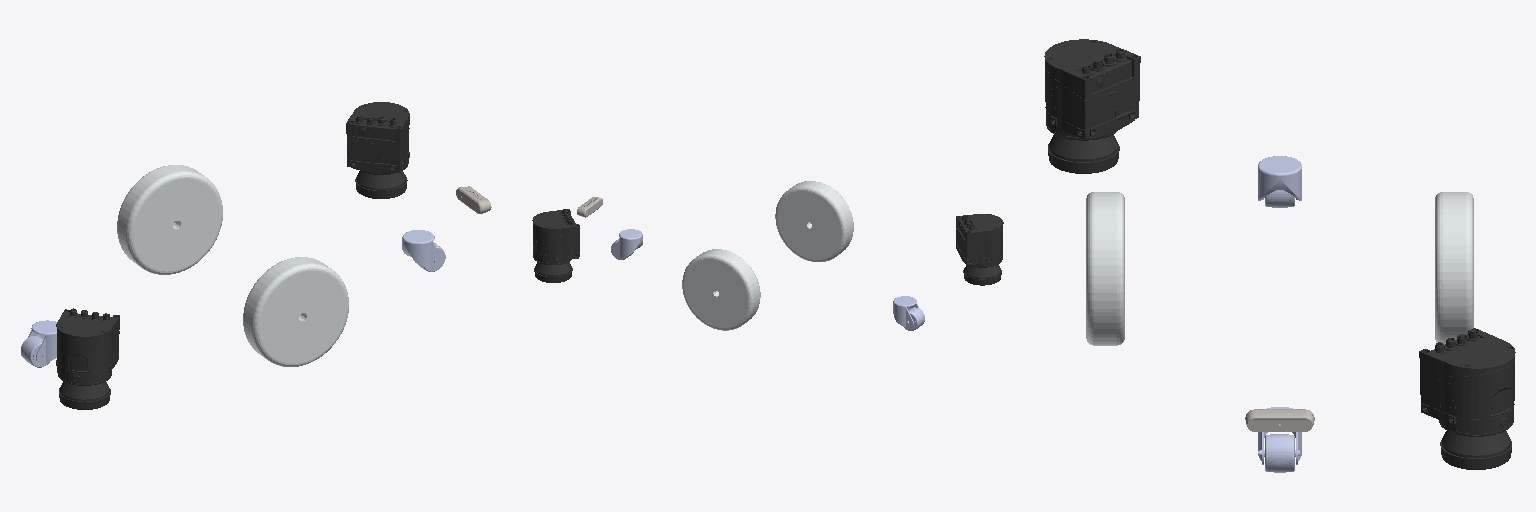
The robot description file, URDF, robot "si_amr":
<?xml version="1.0" encoding="utf-8"?>
<!-- This URDF was automatically created by SolidWorks to URDF Exporter! Originally created by [author] ([email redacted]) 
     Commit Version: 1.6.0-1-g15f4949  Build Version: 1.6.7594.29634
     For more information, please see http://wiki.ros.org/sw_urdf_exporter -->
<robot
  name="si_amr">
  <link
    name="base_link">
    <inertial>
      <origin
        xyz="-0.0111687679342633 7.60706926982341E-06 -0.0775923849011201"
        rpy="0 0 0" />
      <mass
        value="44.8359750988227" />
      <inertia
        ixx="0.86786450117829"
        ixy="-1.30900344543922E-05"
        ixz="0.00428359302486942"
        iyy="2.10439013034758"
        iyz="5.61997396601663E-08"
        izz="2.88226358947726" />
    </inertial>
    <visual>
      <origin
        xyz="0 0 0"
        rpy="0 0 0" />
      <geometry>
        <mesh
          filename="package://si_amr/meshes/base_link.STL" />
      </geometry>
      <material
        name="">
        <color
          rgba="0.792156862745098 0.819607843137255 0.933333333333333 1" />
      </material>
    </visual>
    <collision>
      <origin
        xyz="0 0 0"
        rpy="0 0 0" />
      <geometry>
        <mesh
          filename="package://si_amr/meshes/base_link.STL" />
      </geometry>
    </collision>
  </link>
  <link
    name="wheel_left_link">
    <inertial>
      <origin
        xyz="0 0 0"
        rpy="0 0 0" />
      <mass
        value="4.13932148724235" />
      <inertia
        ixx="0.0111018499195447"
        ixy="-1.14794264253731E-18"
        ixz="1.39715517819818E-19"
        iyy="0.0111018499195447"
        iyz="-1.25817765026692E-19"
        izz="0.0205234809346338" />
    </inertial>
    <visual>
      <origin
        xyz="0 0 0"
        rpy="0 0 0" />
      <geometry>
        <mesh
          filename="package://si_amr/meshes/wheel_left_link.STL" />
      </geometry>
      <material
        name="">
        <color
          rgba="0.898039215686275 0.917647058823529 0.929411764705882 1" />
      </material>
    </visual>
    <collision>
      <origin
        xyz="0 0 0"
        rpy="0 0 0" />
      <geometry>
        <mesh
          filename="package://si_amr/meshes/wheel_left_link.STL" />
      </geometry>
    </collision>
  </link>
  <joint
    name="wheel_left_joint"
    type="continuous">
    <origin
      xyz="0 0.226499999999998 -0.147000000000001"
      rpy="-1.5707963267949 0 0" />
    <parent
      link="base_link" />
    <child
      link="wheel_left_link" />
    <axis
      xyz="0 0 1" />
    <limit
      effort="20"
      velocity="15" />
  </joint>
  <link
    name="wheel_right_link">
    <inertial>
      <origin
        xyz="0 1.38777878078145E-17 2.77555756156289E-17"
        rpy="0 0 0" />
      <mass
        value="4.13932148724235" />
      <inertia
        ixx="0.0111018499195447"
        ixy="8.4551469844733E-39"
        ixz="6.29031827652372E-35"
        iyy="0.0111018499195447"
        iyz="1.50702389241546E-35"
        izz="0.0205234809346339" />
    </inertial>
    <visual>
      <origin
        xyz="0 0 0"
        rpy="0 0 0" />
      <geometry>
        <mesh
          filename="package://si_amr/meshes/wheel_right_link.STL" />
      </geometry>
      <material
        name="">
        <color
          rgba="0.898039215686275 0.917647058823529 0.929411764705882 1" />
      </material>
    </visual>
    <collision>
      <origin
        xyz="0 0 0"
        rpy="0 0 0" />
      <geometry>
        <mesh
          filename="package://si_amr/meshes/wheel_right_link.STL" />
      </geometry>
    </collision>
  </link>
  <joint
    name="wheel_right_joint"
    type="continuous">
    <origin
      xyz="0 -0.226500000000003 -0.146999999999999"
      rpy="1.5707963267949 0 0" />
    <parent
      link="base_link" />
    <child
      link="wheel_right_link" />
    <axis
      xyz="0 0 -1" />
    <limit
      effort="20"
      velocity="15" />
  </joint>
  <link
    name="caster_front_link">
    <inertial>
      <origin
        xyz="0.00133574187463248 -5.71868151332457E-05 -0.0201334264021582"
        rpy="0 0 0" />
      <mass
        value="0.0273136144310984" />
      <inertia
        ixx="2.00084306350161E-05"
        ixy="3.26587017739956E-08"
        ixz="2.99150724390533E-06"
        iyy="1.56757776722852E-05"
        iyz="-3.85589452921517E-08"
        izz="1.94189801360994E-05" />
    </inertial>
    <visual>
      <origin
        xyz="0 0 0"
        rpy="0 0 0" />
      <geometry>
        <mesh
          filename="package://si_amr/meshes/caster_front_link.STL" />
      </geometry>
      <material
        name="">
        <color
          rgba="0.792156862745098 0.819607843137255 0.933333333333333 1" />
      </material>
    </visual>
    <collision>
      <origin
        xyz="0 0 0"
        rpy="0 0 0" />
      <geometry>
        <mesh
          filename="package://si_amr/meshes/caster_front_link.STL" />
      </geometry>
    </collision>
  </link>
  <joint
    name="caster_front_joint"
    type="continuous">
    <origin
      xyz="0.385000133263433 0 -0.177599999999994"
      rpy="0 0 -0.00278958211828869" />
    <parent
      link="base_link" />
    <child
      link="caster_front_link" />
    <axis
      xyz="0 0 1" />
  </joint>
  <link
    name="caster_wheel_front_link">
    <inertial>
      <origin
        xyz="4.85537277605808E-08 2.54449933345668E-12 5.58759442833082E-06"
        rpy="0 0 0" />
      <mass
        value="0.0736834010560839" />
      <inertia
        ixx="2.00646646172897E-05"
        ixy="-1.29307398981512E-14"
        ixz="-1.08025208363595E-14"
        iyy="2.00652243842728E-05"
        iyz="-3.35844640579813E-11"
        izz="2.22295932374571E-05" />
    </inertial>
    <visual>
      <origin
        xyz="0 0 0"
        rpy="0 0 0" />
      <geometry>
        <mesh
          filename="package://si_amr/meshes/caster_wheel_front_link.STL" />
      </geometry>
      <material
        name="">
        <color
          rgba="0.792156862745098 0.819607843137255 0.933333333333333 1" />
      </material>
    </visual>
    <collision>
      <origin
        xyz="0 0 0"
        rpy="0 0 0" />
      <geometry>
        <mesh
          filename="package://si_amr/meshes/caster_wheel_front_link.STL" />
      </geometry>
    </collision>
  </link>
  <joint
    name="caster_wheel_front_joint"
    type="continuous">
    <origin
      xyz="0.0219998659429772 0 -0.0444"
      rpy="1.5707963267949 0 0" />
    <parent
      link="caster_front_link" />
    <child
      link="caster_wheel_front_link" />
    <axis
      xyz="0 0 -1" />
  </joint>
  <link
    name="caster_rear_link">
    <inertial>
      <origin
        xyz="0.00133587852979922 -5.74648971324989E-05 -0.0297334226003987"
        rpy="0 0 0" />
      <mass
        value="0.0273136131661917" />
      <inertia
        ixx="2.0008429931033E-05"
        ixy="3.26588855034143E-08"
        ixz="2.99150809122053E-06"
        iyy="1.56757781442716E-05"
        iyz="-3.85600353091963E-08"
        izz="1.94189798763561E-05" />
    </inertial>
    <visual>
      <origin
        xyz="0 0 0"
        rpy="0 0 0" />
      <geometry>
        <mesh
          filename="package://si_amr/meshes/caster_rear_link.STL" />
      </geometry>
      <material
        name="">
        <color
          rgba="0.792156862745098 0.819607843137255 0.933333333333333 1" />
      </material>
    </visual>
    <collision>
      <origin
        xyz="0 0 0"
        rpy="0 0 0" />
      <geometry>
        <mesh
          filename="package://si_amr/meshes/caster_rear_link.STL" />
      </geometry>
    </collision>
  </link>
  <joint
    name="caster_rear_joint"
    type="continuous">
    <origin
      xyz="-0.384999999999984 0 -0.168000000000006"
      rpy="0 0 -3.13959950785527" />
    <parent
      link="base_link" />
    <child
      link="caster_rear_link" />
    <axis
      xyz="0 0 1" />
  </joint>
  <link
    name="caster_wheel_rear_link">
    <inertial>
      <origin
        xyz="-4.85206940181726E-08 -5.24650808908511E-12 -5.58763183033305E-06"
        rpy="0 0 0" />
      <mass
        value="0.073683401056083" />
      <inertia
        ixx="2.00646646932646E-05"
        ixy="-1.10696244974163E-14"
        ixz="5.81129557001231E-15"
        iyy="2.00652244039019E-05"
        iyz="3.35844642074516E-11"
        izz="2.22295933330647E-05" />
    </inertial>
    <visual>
      <origin
        xyz="0 0 0"
        rpy="0 0 0" />
      <geometry>
        <mesh
          filename="package://si_amr/meshes/caster_wheel_rear_link.STL" />
      </geometry>
      <material
        name="">
        <color
          rgba="0.792156862745098 0.819607843137255 0.933333333333333 1" />
      </material>
    </visual>
    <collision>
      <origin
        xyz="0 0 0"
        rpy="0 0 0" />
      <geometry>
        <mesh
          filename="package://si_amr/meshes/caster_wheel_rear_link.STL" />
      </geometry>
    </collision>
  </link>
  <joint
    name="caster_wheel_rear_joint"
    type="continuous">
    <origin
      xyz="0.0220000000000001 0 -0.054"
      rpy="1.5707963267949 0 0" />
    <parent
      link="caster_rear_link" />
    <child
      link="caster_wheel_rear_link" />
    <axis
      xyz="0 0 -1" />
  </joint>
  <link
    name="lidar_front_link">
    <inertial>
      <origin
        xyz="-0.00413330470567919 -3.38572365146672E-06 -0.049539503720096"
        rpy="0 0 0" />
      <mass
        value="1.18107799883357" />
      <inertia
        ixx="0.00287968383266064"
        ixy="-1.58449446736441E-07"
        ixz="-9.40589036999589E-05"
        iyy="0.00289536531718506"
        iyz="-4.21619248552536E-07"
        izz="0.00159473343043181" />
    </inertial>
    <visual>
      <origin
        xyz="0 0 0"
        rpy="0 0 0" />
      <geometry>
        <mesh
          filename="package://si_amr/meshes/lidar_front_link.STL" />
      </geometry>
      <material
        name="">
        <color
          rgba="0.274509803921569 0.274509803921569 0.274509803921569 1" />
      </material>
    </visual>
    <collision>
      <origin
        xyz="0 0 0"
        rpy="0 0 0" />
      <geometry>
        <mesh
          filename="package://si_amr/meshes/lidar_front_link.STL" />
      </geometry>
    </collision>
  </link>
  <joint
    name="lidar_front_joint"
    type="fixed">
    <origin
      xyz="0.455070962777734 0.254967917599314 -0.1716637394882"
      rpy="3.14159265358978 0 0.78522847015574" />
    <parent
      link="base_link" />
    <child
      link="lidar_front_link" />
    <axis
      xyz="0 0 0" />
  </joint>
  <link
    name="lidar_rear_link">
    <inertial>
      <origin
        xyz="-0.00413330468861456 -3.38570553998219E-06 -0.0495395036964692"
        rpy="0 0 0" />
      <mass
        value="1.18107799827523" />
      <inertia
        ixx="0.00287968383028622"
        ixy="-1.5844861939499E-07"
        ixz="-9.40589026158793E-05"
        iyy="0.00289536531490129"
        iyz="-4.21618103389931E-07"
        izz="0.0015947334287748" />
    </inertial>
    <visual>
      <origin
        xyz="0 0 0"
        rpy="0 0 0" />
      <geometry>
        <mesh
          filename="package://si_amr/meshes/lidar_rear_link.STL" />
      </geometry>
      <material
        name="">
        <color
          rgba="0.274509803921569 0.274509803921569 0.274509803921569 1" />
      </material>
    </visual>
    <collision>
      <origin
        xyz="0 0 0"
        rpy="0 0 0" />
      <geometry>
        <mesh
          filename="package://si_amr/meshes/lidar_rear_link.STL" />
      </geometry>
    </collision>
  </link>
  <joint
    name="lidar_rear_joint"
    type="fixed">
    <origin
      xyz="-0.455070962777702 -0.254967917599318 -0.171663739488213"
      rpy="-3.14159265358978 0 -2.35636418343405" />
    <parent
      link="base_link" />
    <child
      link="lidar_rear_link" />
    <axis
      xyz="0 0 0" />
  </joint>
  <link
    name="camera_front_link">
    <inertial>
      <origin
        xyz="-0.012736 -3.7259E-07 -4.8197E-05"
        rpy="0 0 0" />
      <mass
        value="0.048174" />
      <inertia
        ixx="2.7391E-05"
        ixy="-4.2569E-07"
        ixz="7.5512E-09"
        iyy="3.3488E-06"
        iyz="2.1164E-09"
        izz="2.665E-05" />
    </inertial>
    <visual>
      <origin
        xyz="0 0 0"
        rpy="0 0 0" />
      <geometry>
        <mesh
          filename="package://si_amr/meshes/camera_front_link.STL" />
      </geometry>
      <material
        name="">
        <color
          rgba="0.77647 0.75686 0.73725 1" />
      </material>
    </visual>
    <collision>
      <origin
        xyz="0 0 0"
        rpy="0 0 0" />
      <geometry>
        <mesh
          filename="package://si_amr/meshes/camera_front_link.STL" />
      </geometry>
    </collision>
  </link>
  <joint
    name="camera_front_joint"
    type="fixed">
    <origin
      xyz="0.5119 2.0065E-05 -0.1325"
      rpy="0 0 0" />
    <parent
      link="base_link" />
    <child
      link="camera_front_link" />
    <axis
      xyz="0 0 0" />
  </joint>

  <gazebo>
    <plugin name="differential_drive_controller" filename="libgazebo_ros_diff_drive.so">

    <!-- Plugin update rate in Hz -->
    <updateRate>40</updateRate>

    <!-- Name of left joint, defaults to `left_joint` -->
    <leftJoint>wheel_left_joint</leftJoint>

    <!-- Name of right joint, defaults to `right_joint` -->
    <rightJoint>wheel_right_joint</rightJoint>

    <!-- The distance from the center of one wheel to the other, in meters, defaults to 0.34 m -->
    <wheelSeparation>0.453</wheelSeparation>

    <!-- Diameter of the wheels, in meters, defaults to 0.15 m -->
    <wheelDiameter>0.2</wheelDiameter>

    <!-- Wheel acceleration, in rad/s^2, defaults to 0.0 rad/s^2 -->
    <wheelAcceleration>1.0</wheelAcceleration>

    <!-- Maximum torque which the wheels can produce, in Nm, defaults to 5 Nm -->
    <wheelTorque>24.17</wheelTorque>

    <!-- Topic to receive geometry_msgs/Twist message commands, defaults to `cmd_vel` -->
    <commandTopic>cmd_vel</commandTopic>

    <!-- Topic to publish nav_msgs/Odometry messages, defaults to `odom` -->
    <odometryTopic>odom</odometryTopic>

    <!-- Odometry frame, defaults to `odom` -->
    <odometryFrame>odom</odometryFrame>

    <!-- Robot frame to calculate odometry from, defaults to `base_footprint` -->
    <robotBaseFrame>base_footprint</robotBaseFrame>

    <!-- Odometry source, 0 for ENCODER, 1 for WORLD, defaults to WORLD -->
    <odometrySource>world</odometrySource>

    <!-- Set to true to publish transforms for the wheel links, defaults to false -->
    <publishWheelTF>true</publishWheelTF>

    <!-- Set to true to publish transforms for the odometry, defaults to true -->
    <publishOdom>true</publishOdom>

    <!-- Set to true to publish sensor_msgs/JointState on /joint_states for the wheel joints, defaults to false -->
    <publishWheelJointState>true</publishWheelJointState>

    <!-- Set to true to swap right and left wheels, defaults to true -->
    <legacyMode>false</legacyMode>
  </plugin>
 </gazebo>

   <!-- hokuyo -->
  <gazebo reference="lidar_front_link">
    <sensor type="gpu_ray" name="head_hokuyo_sensor">
      <pose>0 0 0 0 0 0</pose>
      <visualize>true</visualize>
      <update_rate>40</update_rate>
      <ray>
        <scan>
          <horizontal>
            <samples>720</samples>
            <resolution>1</resolution>
            <min_angle>-2.356195</min_angle>
            <max_angle>2.356195</max_angle>
          </horizontal>
        </scan>
        <range>
          <min>0.10</min>
          <max>30.0</max>
          <resolution>0.01</resolution>
        </range>
        <noise>
          <type>gaussian</type>
          <!-- Noise parameters based on published spec for Hokuyo laser
               achieving "+-30mm" accuracy at range < 10m.  A mean of 0.0m and
               stddev of 0.01m will put 99.7% of samples within 0.03m of the true
               reading. -->
          <mean>0.0</mean>
          <stddev>0.01</stddev>
        </noise>
      </ray>
      <plugin name="gazebo_ros_head_hokuyo_controller" filename="libgazebo_ros_gpu_laser.so">
        <topicName>/laser/front_scan</topicName>
        <frameName>lidar_front_link</frameName>
      </plugin>
    </sensor>
  </gazebo>

<gazebo reference="camera_front_link">
  <sensor name="camera_front" type="depth">
    <update_rate>20</update_rate>
    <camera>
      <horizontal_fov>1.047198</horizontal_fov>
      <image>
        <width>640</width>
        <height>480</height>
        <format>R8G8B8</format>
      </image>
      <clip>
        <near>0.05</near>
        <far>3</far>
      </clip>
    </camera>
    <plugin name="camera_front_controller" filename="libgazebo_ros_openni_kinect.so">
      <baseline>0.2</baseline>
      <alwaysOn>true</alwaysOn>
      <updateRate>1.0</updateRate>
      <cameraName>camera_front_ir</cameraName>
      <imageTopicName>/camera_front/color/image_raw</imageTopicName>
      <cameraInfoTopicName>/camera_front/color/camera_info</cameraInfoTopicName>
      <depthImageTopicName>/camera_front/depth/image_raw</depthImageTopicName>
      <depthImageInfoTopicName>/camera_front/depth/camera_info</depthImageInfoTopicName>
      <pointCloudTopicName>/camera_front/depth/points</pointCloudTopicName>
      <frameName>camera_front_joint</frameName>
      <pointCloudCutoff>0.5</pointCloudCutoff>
      <pointCloudCutoffMax>3.0</pointCloudCutoffMax>
      <distortionK1>0.00000001</distortionK1>
      <distortionK2>0.00000001</distortionK2>
      <distortionK3>0.00000001</distortionK3>
      <distortionT1>0.00000001</distortionT1>
      <distortionT2>0.00000001</distortionT2>
      <CxPrime>0</CxPrime>
      <Cx>0</Cx>
      <Cy>0</Cy>
      <focalLength>0</focalLength>
      <hackBaseline>0</hackBaseline>
    </plugin>
  </sensor>
</gazebo>

  <!-- hokuyo -->
  <gazebo reference="lidar_rear_link">
    <sensor type="gpu_ray" name="head_hokuyo_sensor">
      <pose>0 0 0 0 0 0</pose>
      <visualize>false</visualize>
      <update_rate>40</update_rate>
      <ray>
        <scan>
          <horizontal>
            <samples>720</samples>
            <resolution>1</resolution>
            <min_angle>-1.570796</min_angle>
            <max_angle>1.570796</max_angle>
          </horizontal>
        </scan>
        <range>
          <min>0.10</min>
          <max>30.0</max>
          <resolution>0.01</resolution>
        </range>
        <noise>
          <type>gaussian</type>
          <!-- Noise parameters based on published spec for Hokuyo laser
               achieving "+-30mm" accuracy at range < 10m.  A mean of 0.0m and
               stddev of 0.01m will put 99.7% of samples within 0.03m of the true
               reading. -->
          <mean>0.0</mean>
          <stddev>0.01</stddev>
        </noise>
      </ray>
      <plugin name="gazebo_ros_head_hokuyo_controller" filename="libgazebo_ros_gpu_laser.so">
        <topicName>/laser/rear_scan</topicName>
        <frameName>lidar_rear_link</frameName>
      </plugin>
    </sensor>
  </gazebo>

</robot>

--- Facts derived from the render (not from the file) ---
Views: 3 orthographic renders of the robot side by side, from view 1: azimuth 30°, elevation 25°; view 2: azimuth 150°, elevation 25°; view 3: azimuth 270°, elevation 25°.
Model si_amr with 10 links and 9 joints (6 continuous, 3 fixed), rooted at base_link, posed every joint at zero.
Visible links, largest first — view 1: wheel_right_link, wheel_left_link, lidar_rear_link, lidar_front_link, caster_front_link, caster_rear_link, camera_front_link; view 2: wheel_left_link, wheel_right_link, lidar_front_link, lidar_rear_link, caster_front_link, caster_rear_link; view 3: lidar_front_link, lidar_rear_link, wheel_right_link, wheel_left_link, caster_rear_link, camera_front_link, caster_wheel_front_link.
Boxes of the visible links, x1,y1,x2,y2 form: wheel_right_link: (243, 257, 348, 366); wheel_left_link: (117, 165, 222, 274); lidar_rear_link: (56, 308, 119, 409); lidar_front_link: (346, 102, 409, 198); caster_front_link: (402, 230, 442, 268); caster_rear_link: (28, 320, 56, 363); camera_front_link: (456, 186, 491, 213); wheel_left_link: (682, 249, 760, 330); wheel_right_link: (775, 181, 853, 261); lidar_front_link: (532, 209, 579, 282); lidar_rear_link: (956, 214, 1003, 285); caster_front_link: (613, 229, 642, 257); caster_rear_link: (893, 296, 919, 327); lidar_front_link: (1419, 328, 1515, 469); lidar_rear_link: (1044, 39, 1140, 173); wheel_right_link: (1086, 192, 1124, 345); wheel_left_link: (1435, 192, 1473, 344); caster_rear_link: (1258, 156, 1301, 200); camera_front_link: (1245, 409, 1314, 431); caster_wheel_front_link: (1264, 434, 1295, 472).
Bounding box of the posed robot: 1.02 × 0.6117 × 0.2025 m (x, y, z).
9 mesh visuals loaded from 10 distinct referenced files (9 binary STL); not drawn: 1 (reference not matched to a file when rendering).